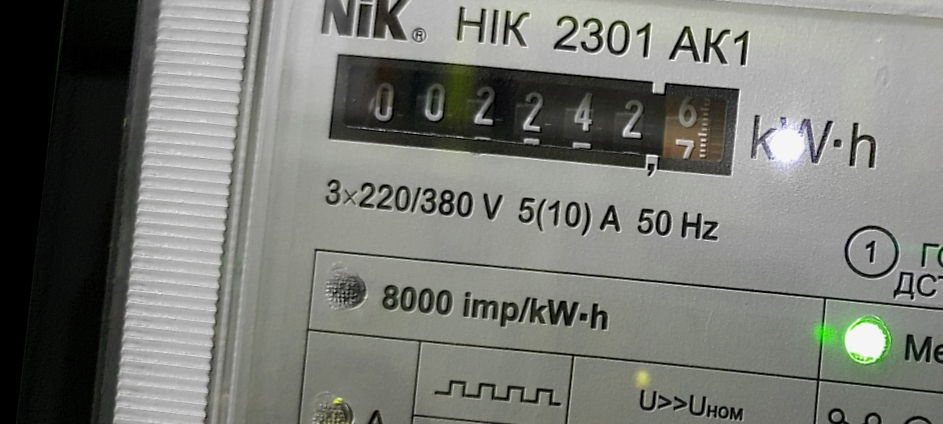0: (419, 79, 449, 124), (370, 78, 398, 125), (471, 83, 499, 128)
2: (618, 96, 647, 142), (519, 89, 547, 135)
4: (569, 89, 597, 135)
6: (674, 94, 702, 130)
7: (671, 136, 696, 161)
screen: (316, 31, 758, 202)
